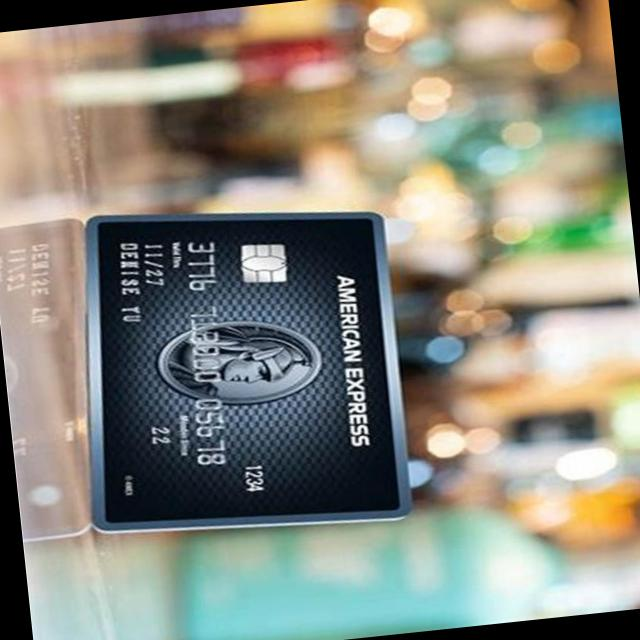card: (81, 210, 412, 531)
